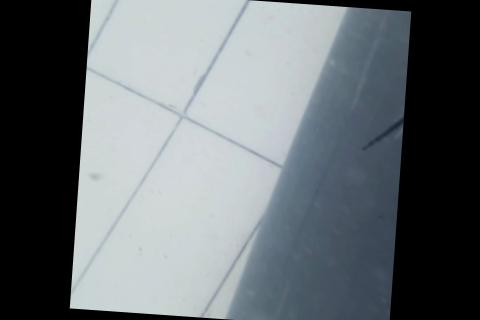keretakan: (358, 98, 404, 155)
